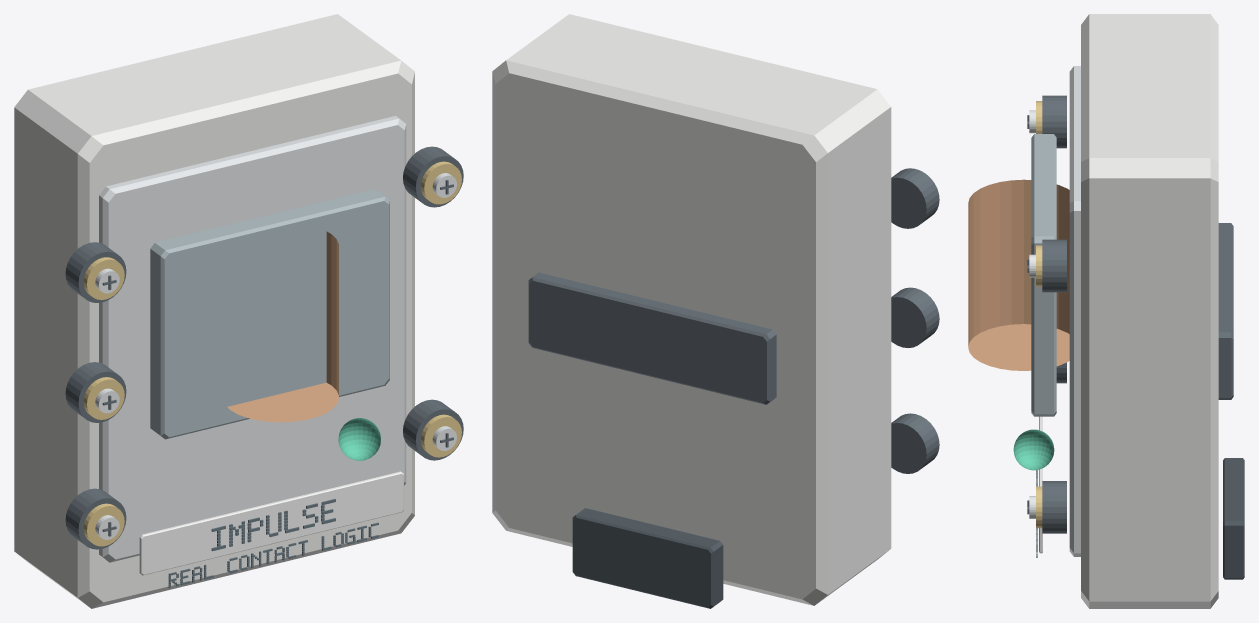
The model's file is impulseRelay.glb.
3 renders of one model, left to right at view 1: azimuth 30°, elevation 25°; view 2: azimuth 150°, elevation 25°; view 3: azimuth 270°, elevation 25°, orthographic. The views are drawn at different scales.
Parts seen in each view (by area): view 1: impulseRelay-detailed; view 2: impulseRelay-detailed; view 3: impulseRelay-detailed.
Part boxes in pixels (x1,y1,x2,y2): impulseRelay-detailed: (14,14,463,608); impulseRelay-detailed: (492,14,939,608); impulseRelay-detailed: (968,14,1244,608).
Bounding box in the file's own units: 2.52 × 3.03 × 1.64.
